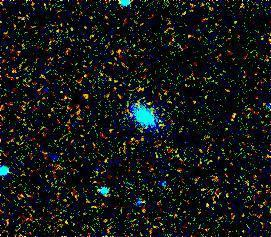star: (72, 82, 102, 112)
